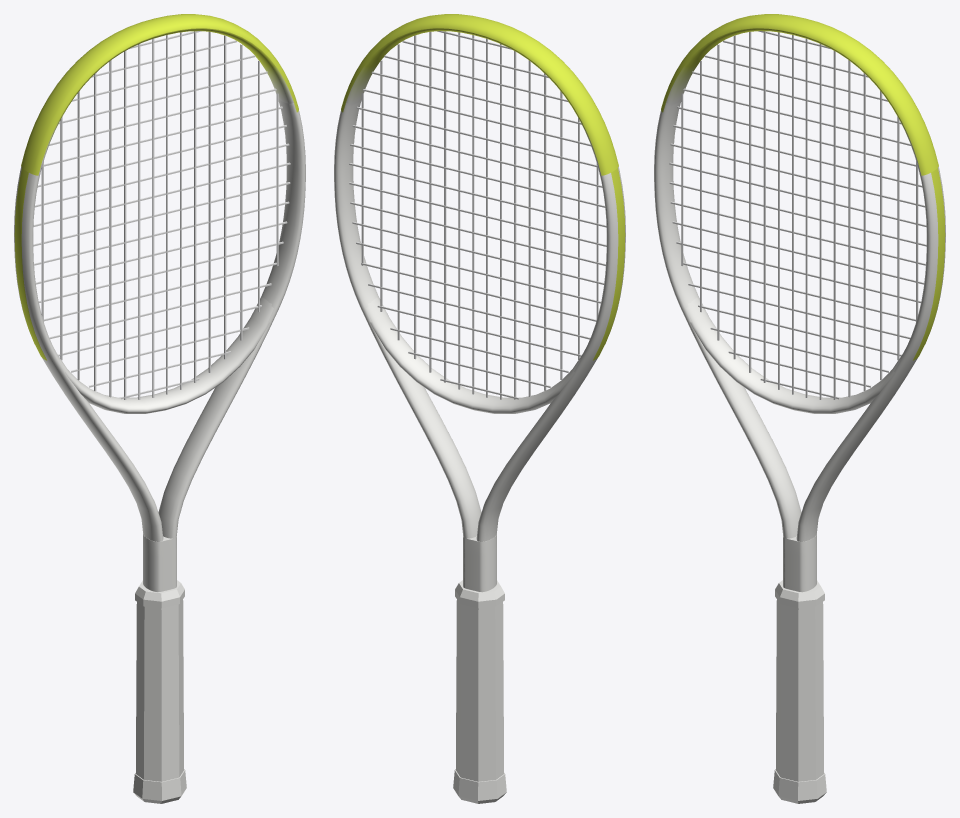
Rendered from tecnifibre-tf-x1-v2.glb.
3 views of the same model, side by side, from view 1: azimuth 30°, elevation 25°; view 2: azimuth 150°, elevation 25°; view 3: azimuth 330°, elevation 25° (orthographic).
Visible parts, largest first — view 1: frame, strings_mains, strings_crosses, grip, bumper, grommets, butt_cap, collar; view 2: frame, strings_mains, strings_crosses, grip, bumper, grommets, butt_cap, collar; view 3: frame, strings_mains, strings_crosses, grip, bumper, grommets, butt_cap, collar.
Part boxes in pixels (box(x1,y1,x2,y2)): frame: box(14, 28, 305, 592); strings_mains: box(41, 31, 278, 399); strings_crosses: box(33, 31, 290, 399); grip: box(135, 600, 184, 781); bumper: box(21, 14, 298, 175); grommets: box(14, 168, 46, 360); butt_cap: box(133, 769, 186, 803); collar: box(135, 580, 184, 608); frame: box(334, 28, 625, 592); strings_mains: box(361, 31, 598, 399); strings_crosses: box(349, 31, 606, 399); grip: box(455, 600, 504, 781); bumper: box(341, 14, 618, 175); grommets: box(593, 168, 625, 360); butt_cap: box(453, 769, 506, 803); collar: box(455, 580, 504, 608); frame: box(654, 28, 945, 592); strings_mains: box(681, 31, 918, 399); strings_crosses: box(669, 31, 926, 399); grip: box(775, 600, 824, 781); bumper: box(661, 14, 938, 175); grommets: box(913, 168, 945, 360); butt_cap: box(773, 769, 826, 803); collar: box(775, 580, 824, 608).
Bounding box in the file's own units: 0.2644 × 0.6861 × 0.0378.
